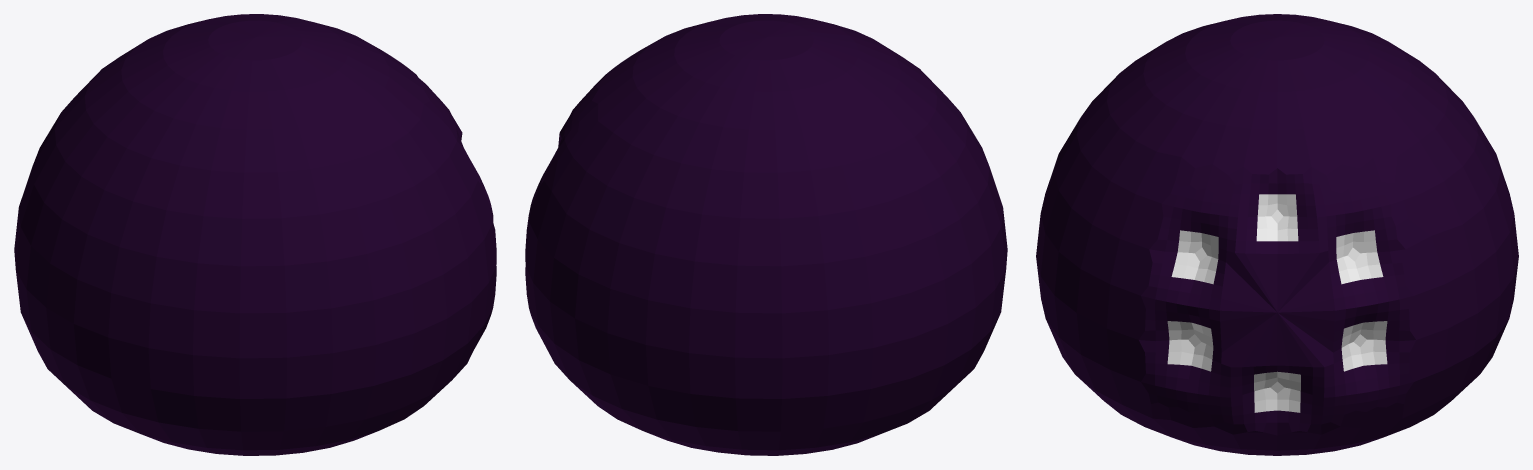
File: GLBcore.fbx
3 views of the same model, side by side, from view 1: azimuth 30°, elevation 25°; view 2: azimuth 150°, elevation 25°; view 3: azimuth 270°, elevation 25° (orthographic).
Visible parts, largest first — view 1: Sphere; view 2: Sphere; view 3: Sphere.
Part boxes in pixels (bbox=[...]): Sphere: bbox=[14, 14, 496, 455]; Sphere: bbox=[525, 14, 1007, 455]; Sphere: bbox=[1036, 14, 1518, 455].
Size of the model in its own units: 196 by 173 by 198.
